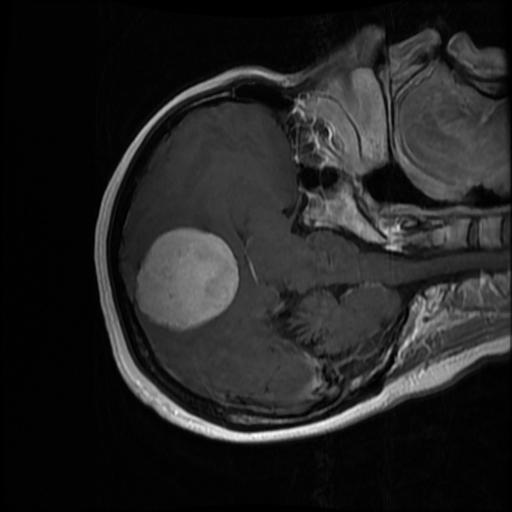meningioma: (136, 225, 238, 331)
